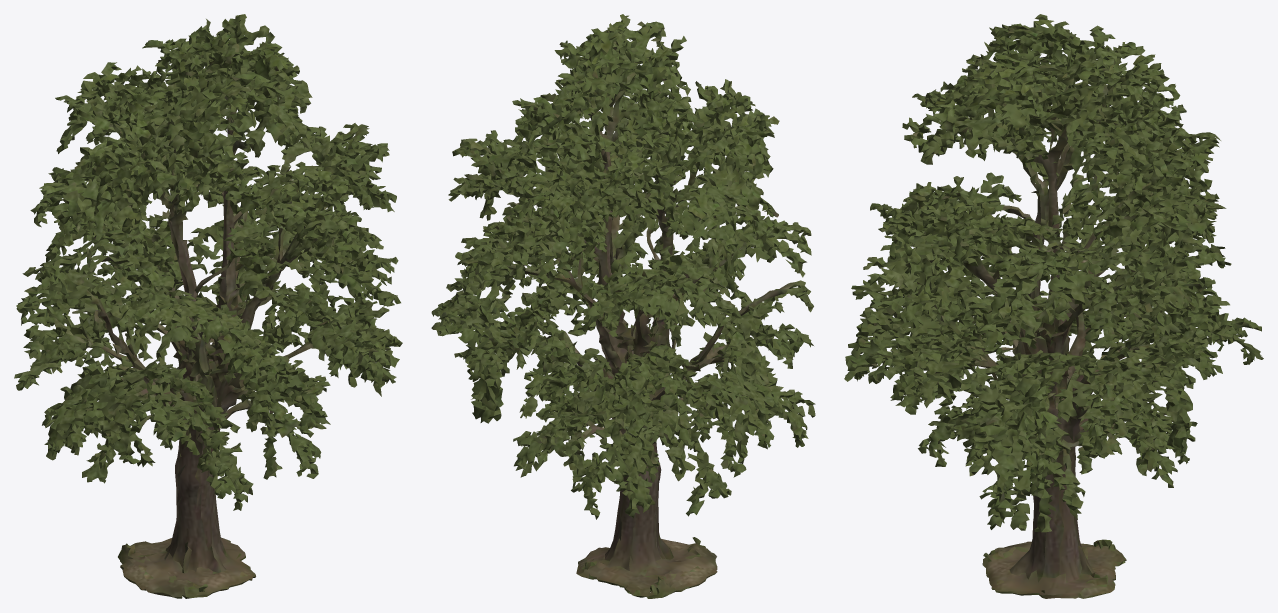
File: r7-betula-insignis.glb
3 views of the same model, side by side, from view 1: azimuth 30°, elevation 25°; view 2: azimuth 150°, elevation 25°; view 3: azimuth 270°, elevation 25° (orthographic). The views are drawn at different scales.
Parts seen in each view (by area): view 1: geometry_0; view 2: geometry_0; view 3: geometry_0.
Part boxes in pixels (x1,y1,x2,y2): geometry_0: [14, 14, 402, 598]; geometry_0: [431, 14, 815, 598]; geometry_0: [844, 14, 1263, 598].
Size of the model in its own units: 10.26 by 15 by 10.22.
1 material, 1 textured.
